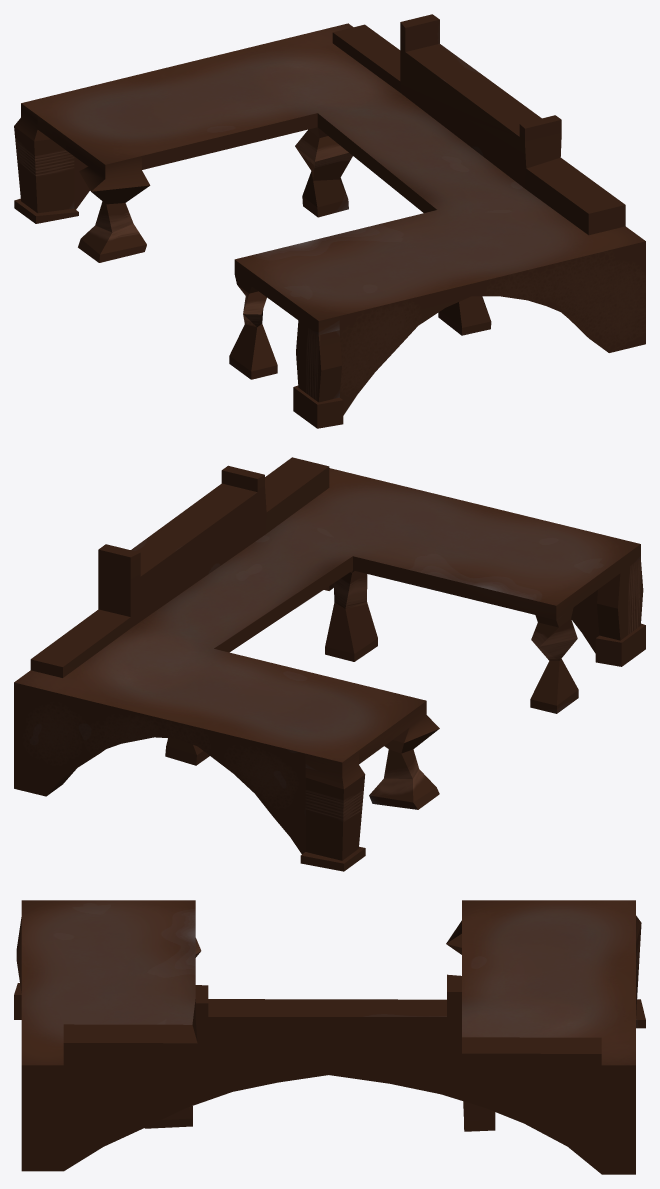
The model's file is AlchemyStationLab.fbx.
3 renders of one model, top to bottom at view 1: azimuth 30°, elevation 25°; view 2: azimuth 150°, elevation 25°; view 3: azimuth 270°, elevation 25°, orthographic. The views are drawn at different scales.
Parts seen in each view (by area): view 1: AlchemyStationLab; view 2: AlchemyStationLab; view 3: AlchemyStationLab.
Boxes of the visible parts, bbox=[...] form: AlchemyStationLab: bbox=[14, 14, 645, 428]; AlchemyStationLab: bbox=[14, 457, 645, 871]; AlchemyStationLab: bbox=[14, 900, 645, 1174].
Size of the model in its own units: 332 by 167 by 517.
